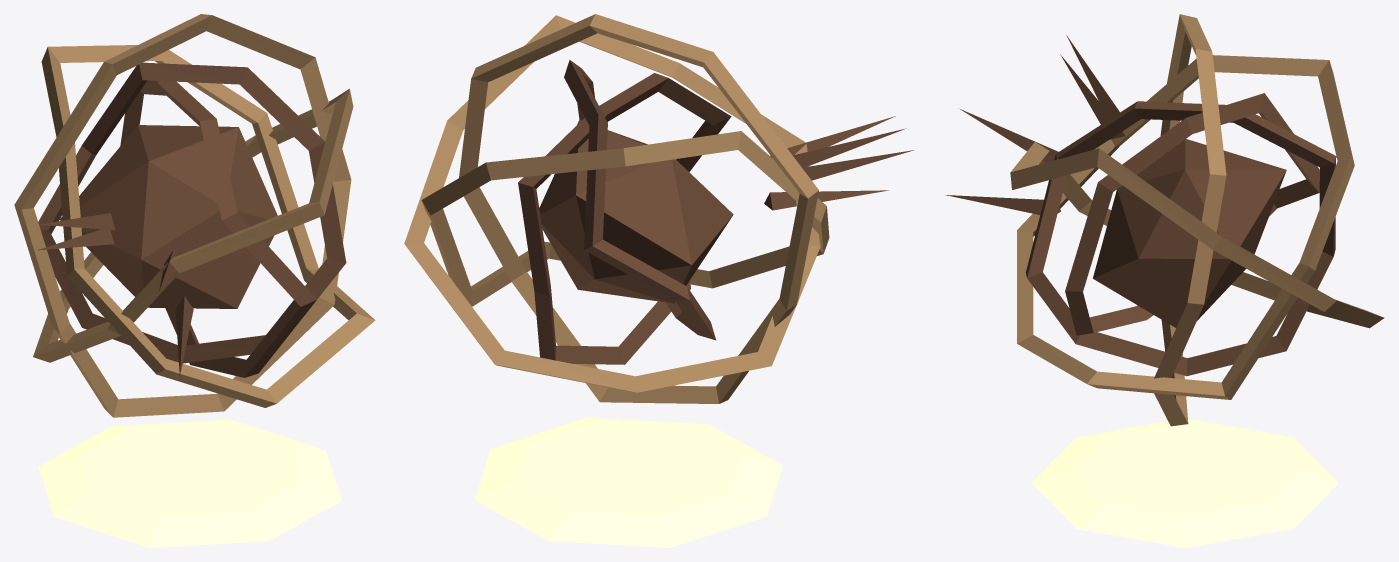
File: Veg_TumbleweedFloat_A.fbx
3 views of the same model, side by side, from view 1: azimuth 30°, elevation 25°; view 2: azimuth 150°, elevation 25°; view 3: azimuth 270°, elevation 25° (orthographic). The views are drawn at different scales.
Parts seen in each view (by area): view 1: Veg_TumbleweedFloat_A_Body, Veg_TumbleweedFloat_A_Glow; view 2: Veg_TumbleweedFloat_A_Body, Veg_TumbleweedFloat_A_Glow; view 3: Veg_TumbleweedFloat_A_Body, Veg_TumbleweedFloat_A_Glow.
Part boxes in pixels (x1=…): Veg_TumbleweedFloat_A_Body: x1=14, y1=14, x2=375, y2=417; Veg_TumbleweedFloat_A_Glow: x1=38, y1=419, x2=341, y2=547; Veg_TumbleweedFloat_A_Body: x1=404, y1=14, x2=914, y2=403; Veg_TumbleweedFloat_A_Glow: x1=475, y1=417, x2=782, y2=547; Veg_TumbleweedFloat_A_Body: x1=945, y1=14, x2=1384, y2=426; Veg_TumbleweedFloat_A_Glow: x1=1032, y1=419, x2=1338, y2=547.
Bounding box in the file's own units: 0.8388 × 0.9655 × 0.8614.
